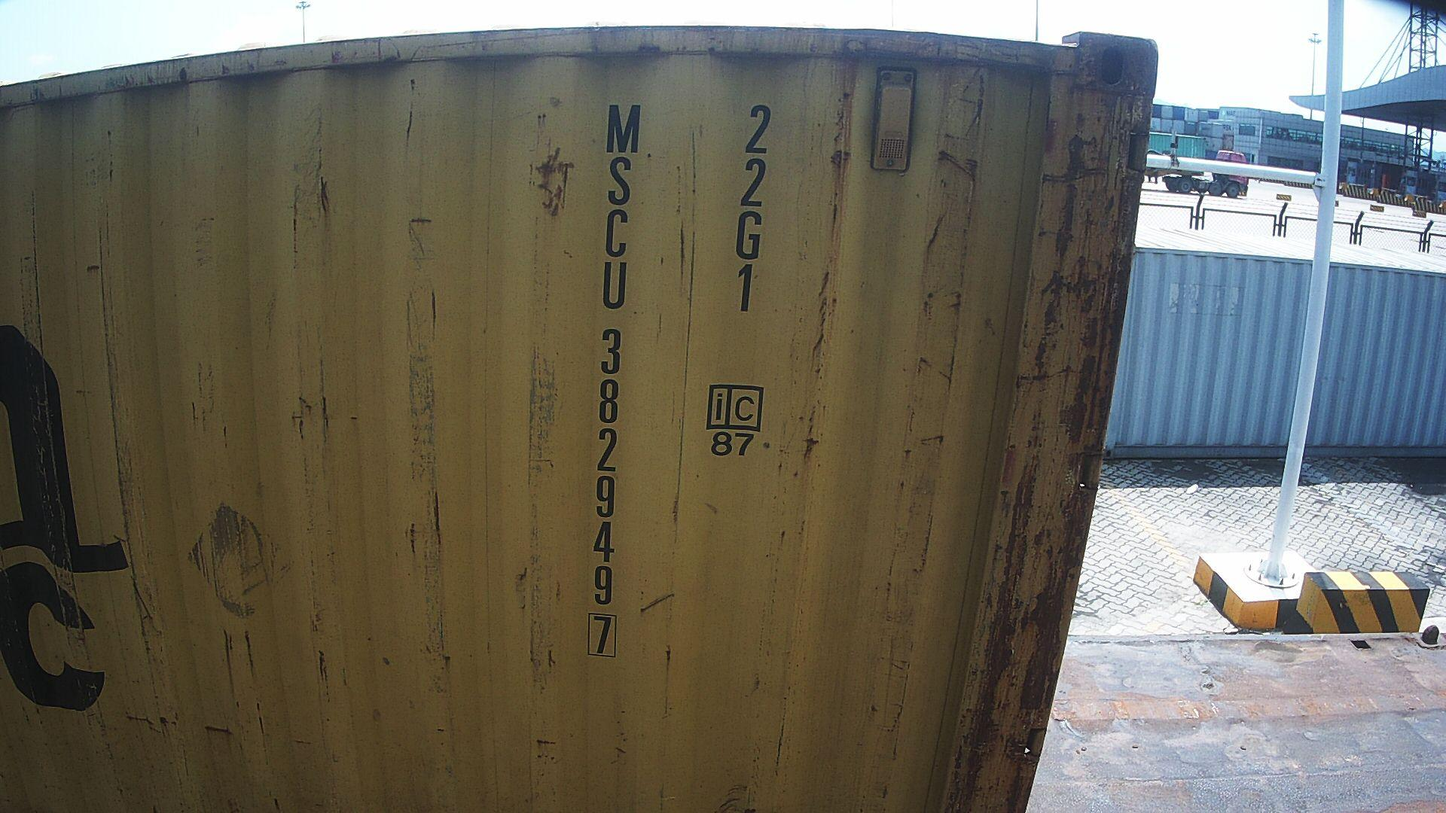container-numbers: (583, 100, 645, 663), (728, 100, 776, 318)
